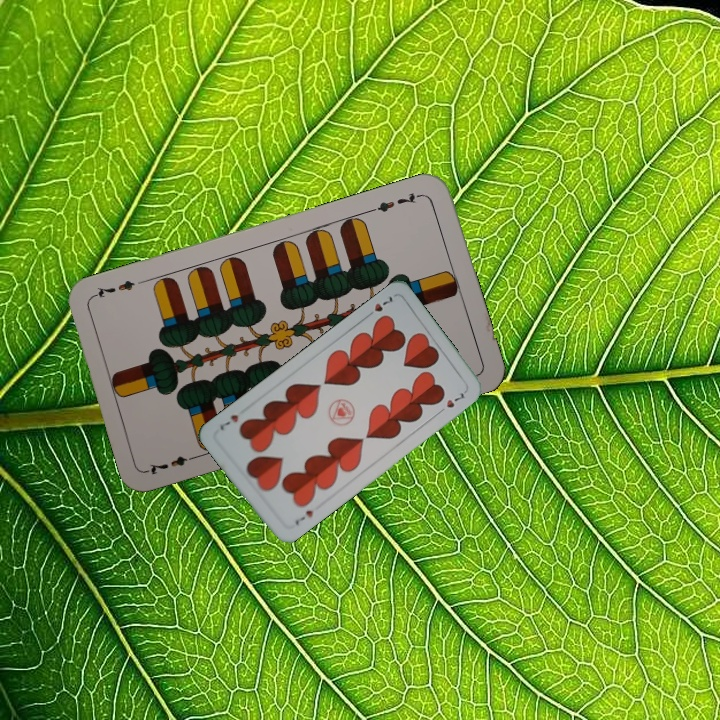E7: (367, 188, 425, 215), (144, 450, 202, 477)
H7: (362, 292, 395, 321), (291, 506, 316, 528)
